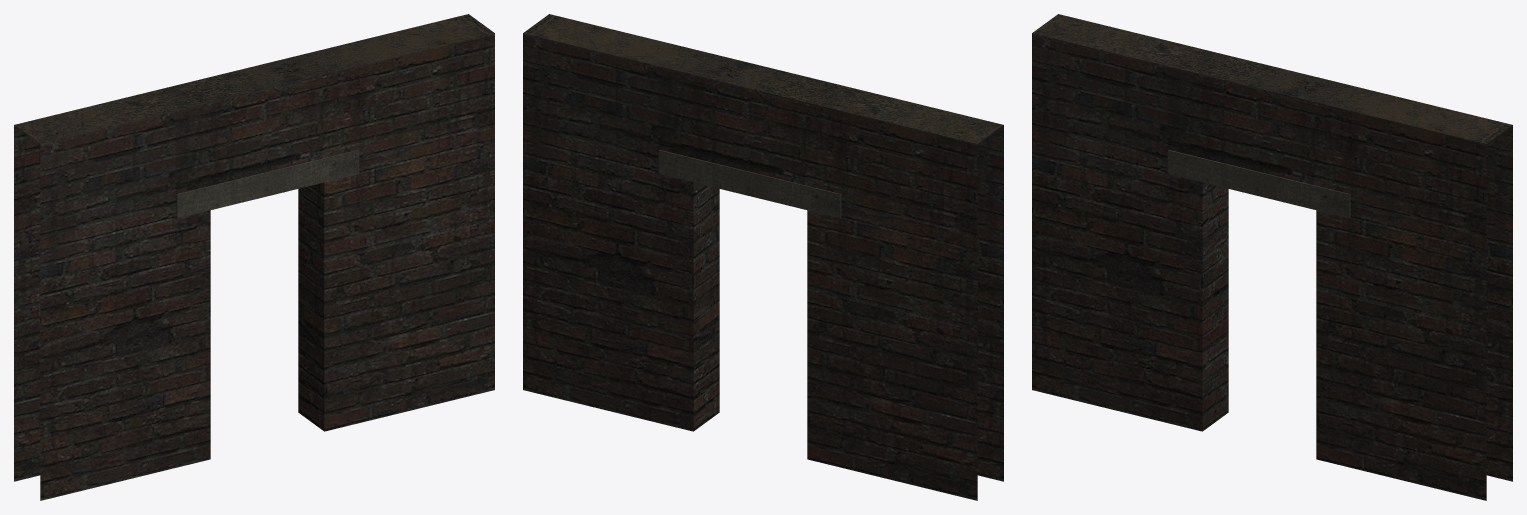
The model's file is doorway_hs_1_regular.dae.
3 renders of one model, left to right at view 1: azimuth 30°, elevation 25°; view 2: azimuth 150°, elevation 25°; view 3: azimuth 330°, elevation 25°, orthographic.
Parts seen in each view (by area): view 1: doorway_hs_1_regular; view 2: doorway_hs_1_regular; view 3: doorway_hs_1_regular.
Part boxes in pixels (x1,y1,x2,y2): doorway_hs_1_regular: (14, 14, 494, 500); doorway_hs_1_regular: (523, 14, 1003, 500); doorway_hs_1_regular: (1032, 14, 1512, 500).
Size of the model in its own units: 4 by 0.42 by 3.
3 materials, 3 textured.
